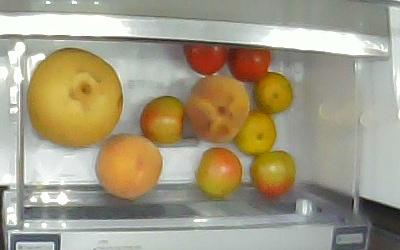peach: (96, 134, 163, 200), (188, 75, 250, 142)
pear: (27, 46, 124, 147)
tangerine: (235, 111, 275, 155), (254, 72, 293, 112)
tomato: (194, 148, 242, 195), (139, 95, 185, 144), (249, 150, 294, 196), (228, 46, 271, 82), (183, 44, 228, 76)
